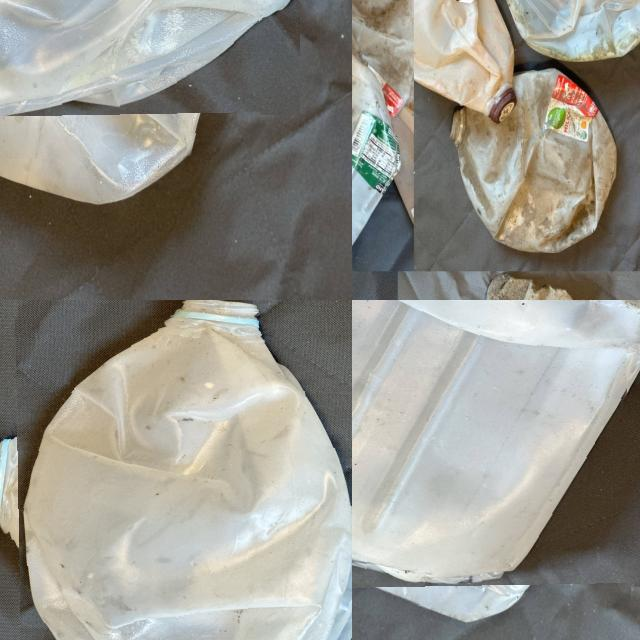milk-jug: (0, 312, 352, 640), (352, 300, 629, 607), (0, 0, 258, 159), (444, 75, 626, 259), (411, 0, 524, 111), (352, 10, 399, 266), (483, 0, 640, 59)
